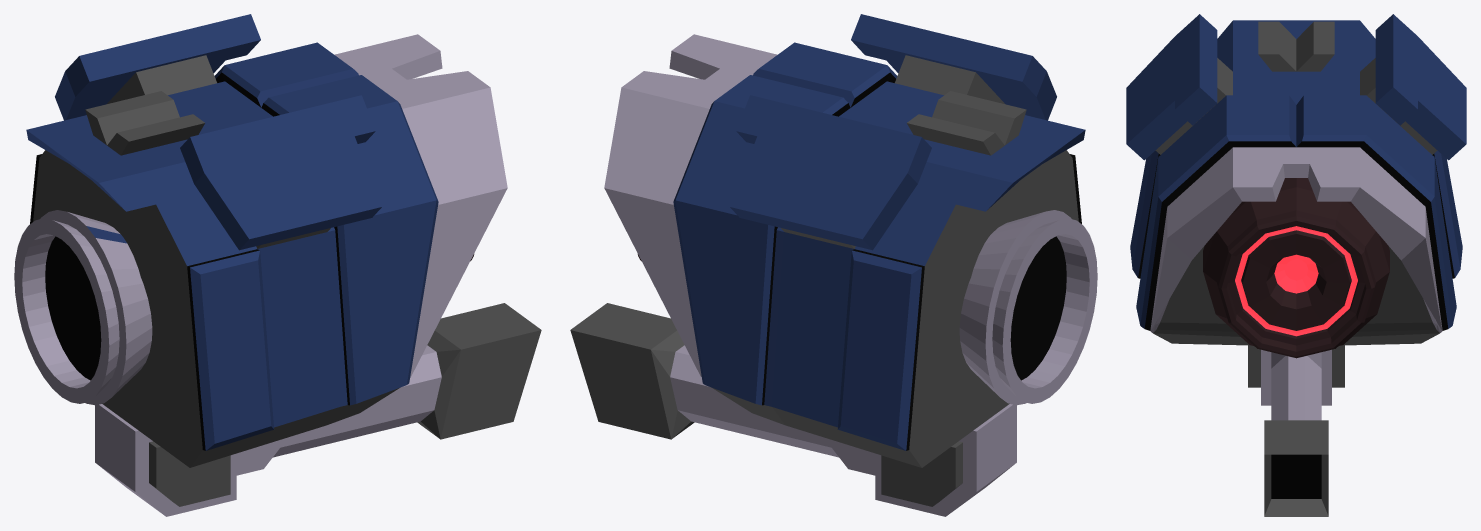
File: FlyingEnemy.fbx
3 renders of one model, left to right at view 1: azimuth 30°, elevation 25°; view 2: azimuth 150°, elevation 25°; view 3: azimuth 270°, elevation 25°, orthographic. The views are drawn at different scales.
Visible parts, largest first — view 1: FlyingEnemy; view 2: FlyingEnemy; view 3: FlyingEnemy.
Boxes of the visible parts, bbox=[...] form: FlyingEnemy: bbox=[14, 14, 541, 516]; FlyingEnemy: bbox=[570, 14, 1097, 516]; FlyingEnemy: bbox=[1126, 14, 1466, 516].
Size of the model in its own units: 361 by 305 by 263.
